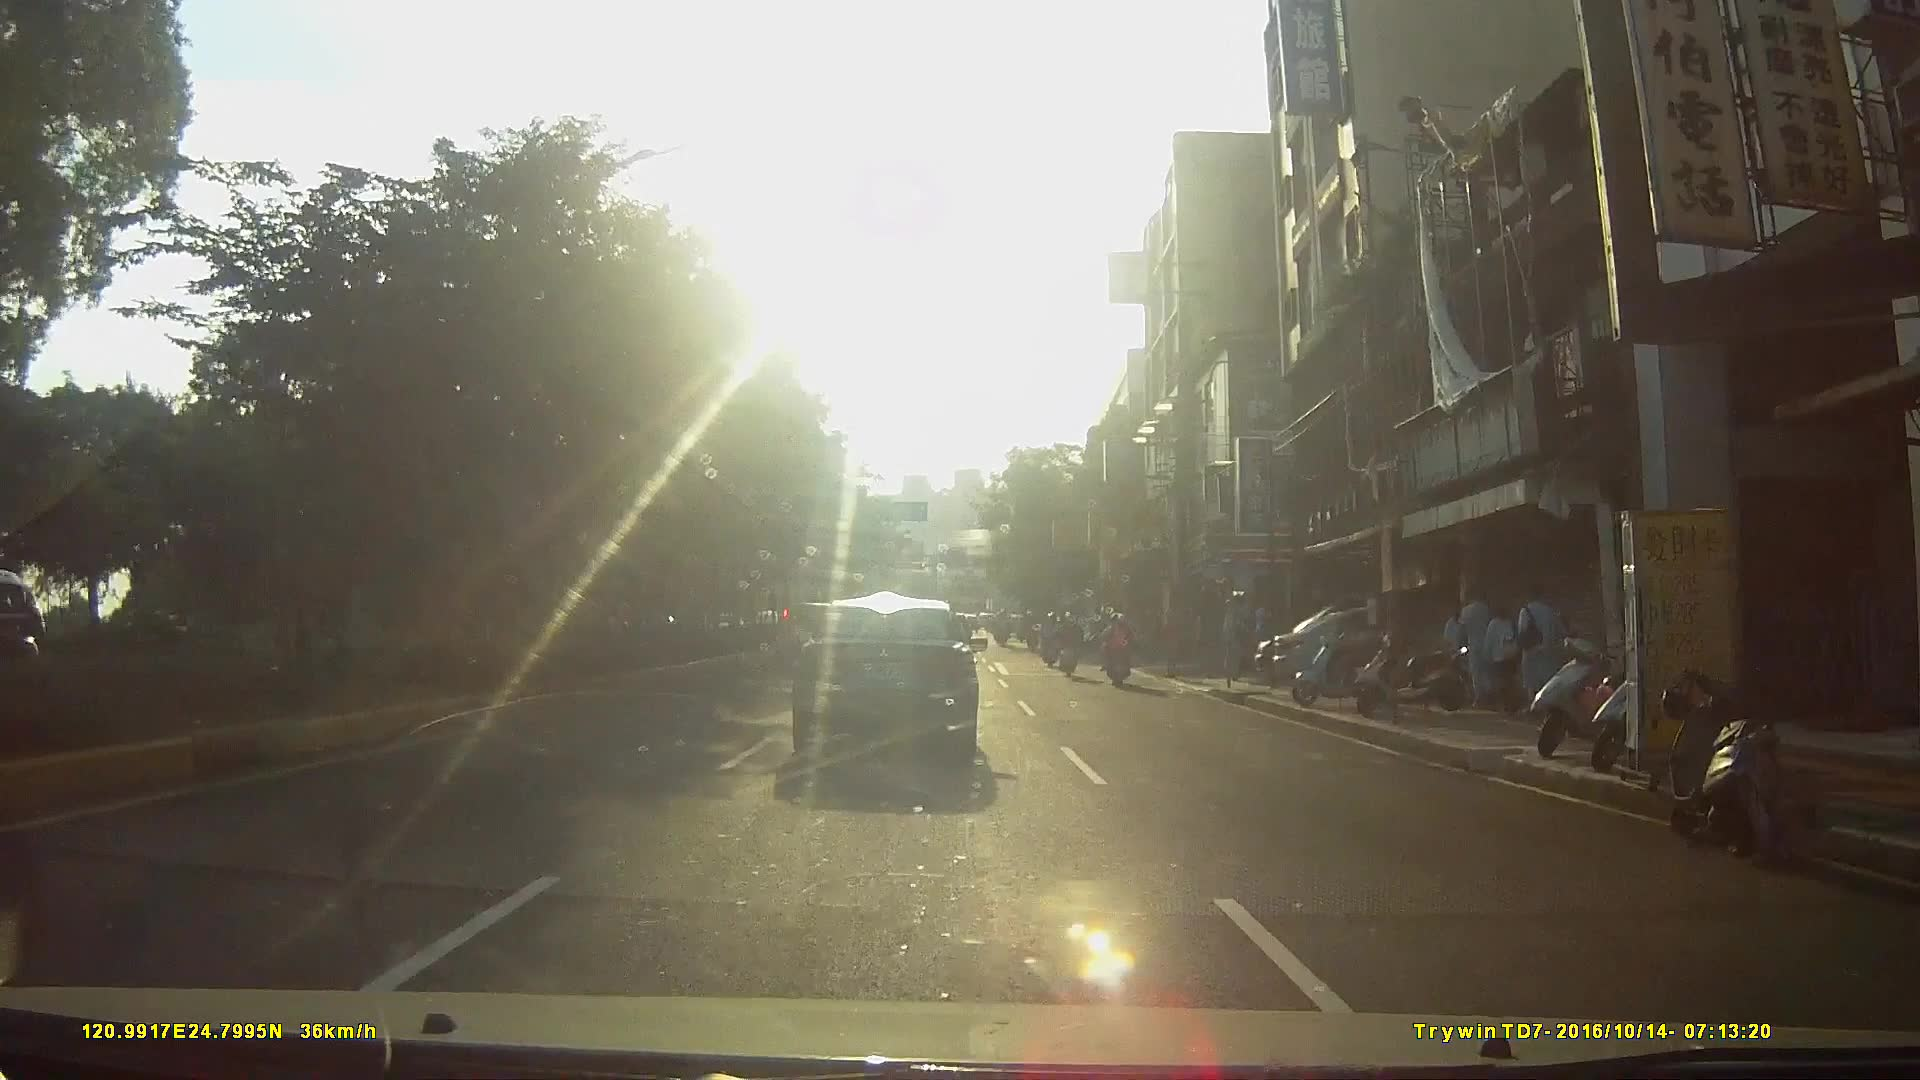pedestrian: (1514, 579, 1560, 725), (1476, 598, 1527, 716), (1459, 579, 1498, 712)
rider: (1104, 613, 1138, 692), (1056, 612, 1084, 679), (1041, 612, 1062, 670)
vehicle: (789, 598, 1003, 786), (1, 576, 53, 706)
